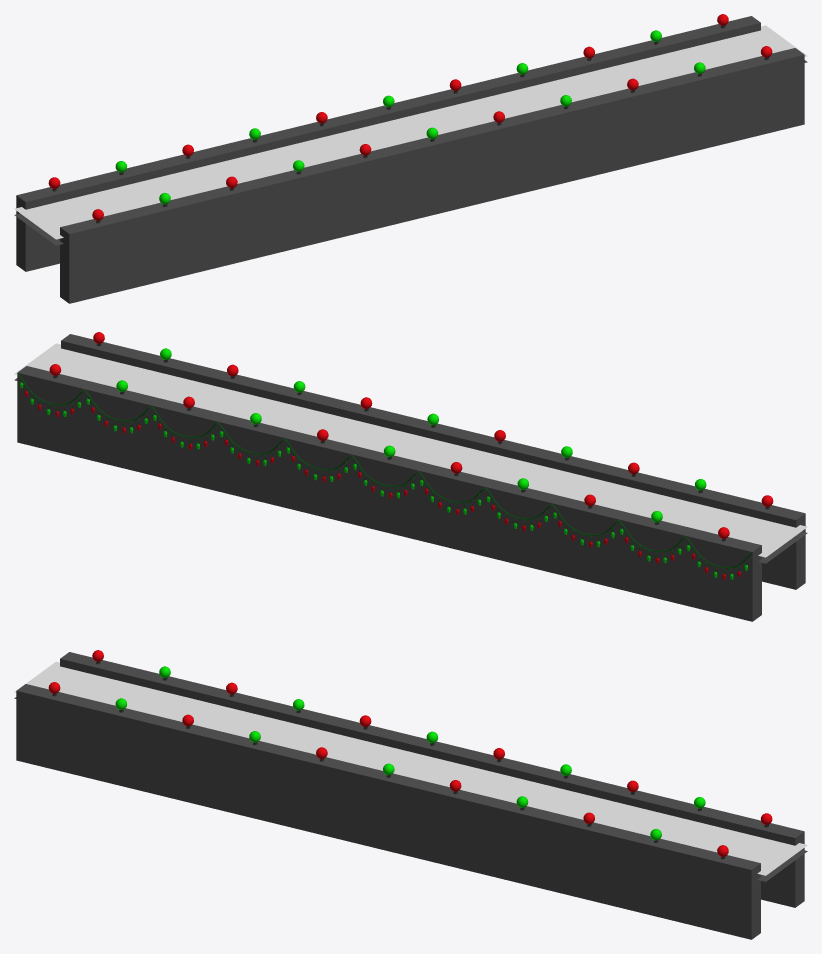
The model's file is Conveyor belt.glb.
The picture shows the model from 3 angles, top to bottom: view 1: azimuth 30°, elevation 25°; view 2: azimuth 150°, elevation 25°; view 3: azimuth 330°, elevation 25°; orthographic projection.
Parts seen in each view (by area): view 1: SM_Side, Sm_Belt; view 2: SM_Side, Sm_Belt; view 3: SM_Side, Sm_Belt.
Part boxes in pixels (box(x1,y1,x2,y2)): SM_Side: box(14, 14, 807, 303); Sm_Belt: box(14, 25, 807, 239); SM_Side: box(14, 332, 807, 621); Sm_Belt: box(14, 343, 807, 557); SM_Side: box(14, 650, 807, 939); Sm_Belt: box(14, 661, 807, 875).
Bounding box in the file's own units: 11.52 × 1.21 × 1.42.
